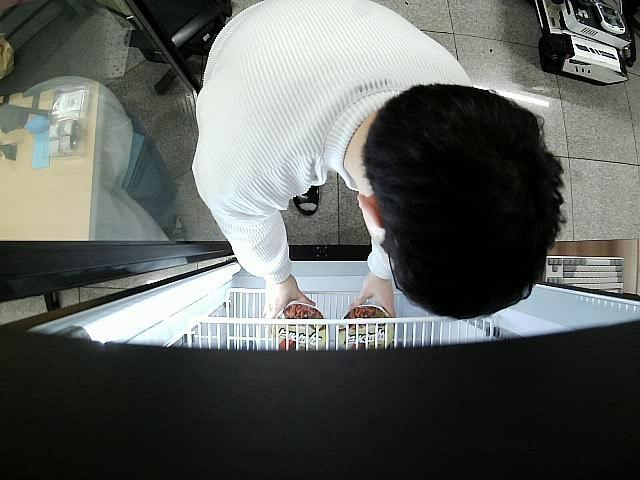03_chapagetti_L: (268, 301, 326, 352), (340, 304, 396, 350)
